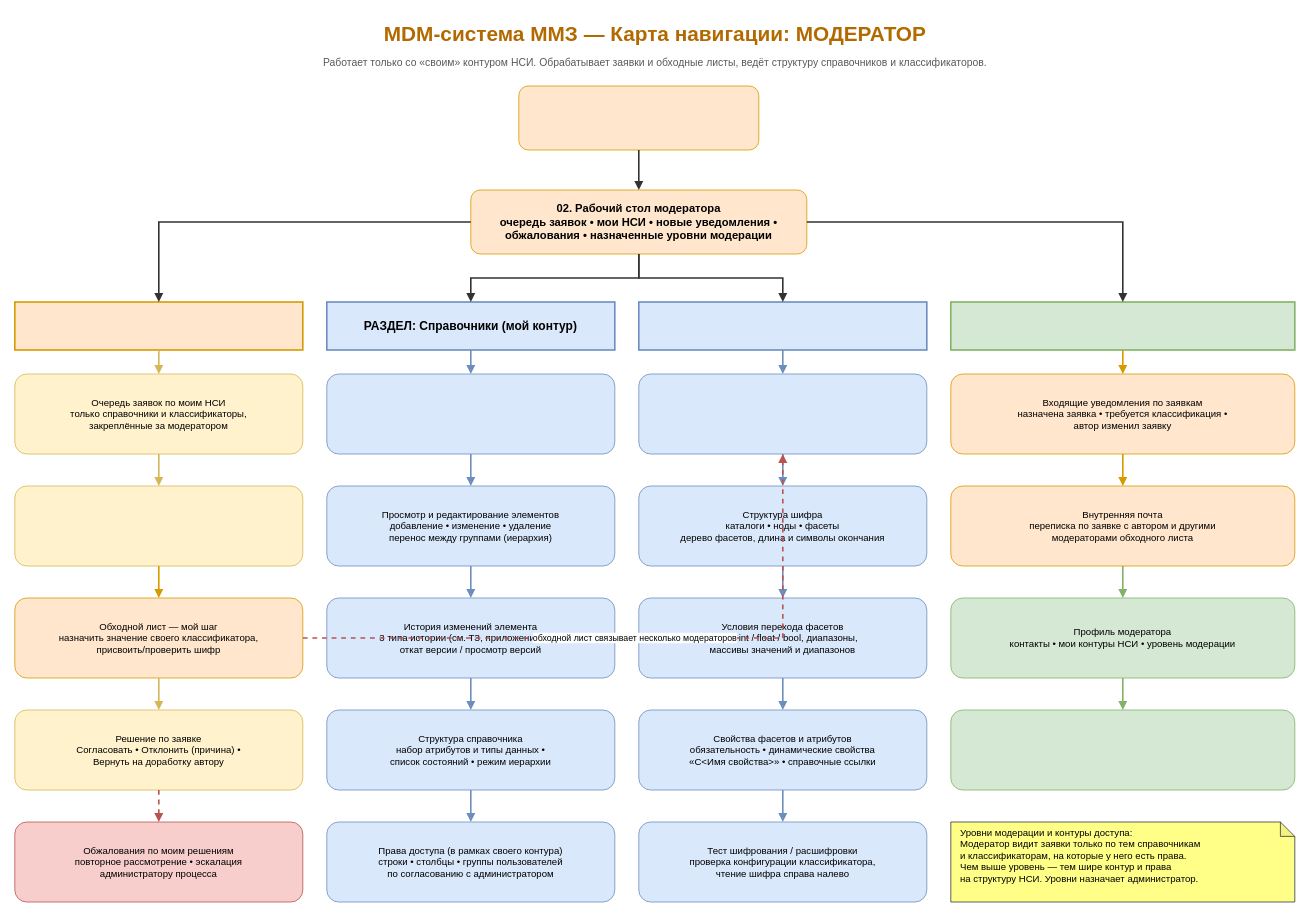
This 1309x916 diagram has some shape labels left out. The shapes that lost their labels are listed below. From the top down, each one's centre as x and y in pixels, then its label:
[638,117]: 01. Экран входа Логин / пароль • LDAP
[158,325]: РАЗДЕЛ: Заявки и обходной лист
[782,325]: РАЗДЕЛ: Классификаторы (мой контур)
[1122,325]: РАЗДЕЛ: Уведомления и профиль
[470,413]: Мои справочники (ограничение: только закреплённые за системой/группой НСИ)
[782,413]: Мои классификаторы (доступ только к закреплённым фасетным структурам)
[158,525]: Карточка заявки на рассмотрении данные элемента • вложения • автор • срок
[1122,749]: Смена пароля
